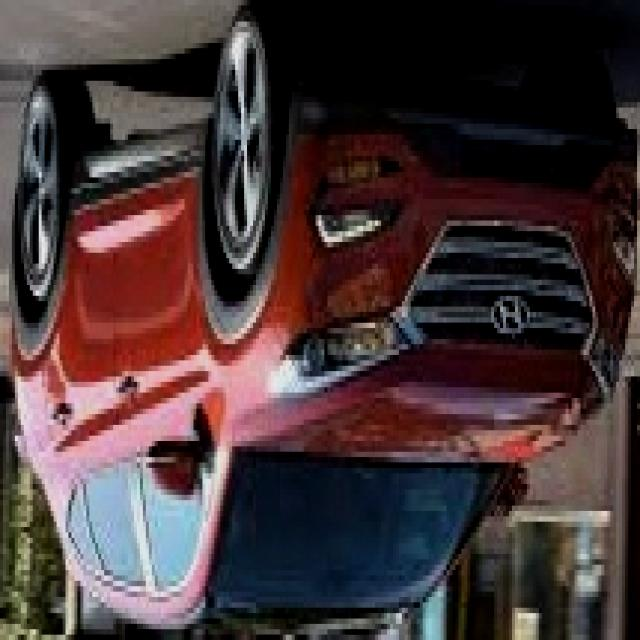maroon: (13, 63, 640, 640)
